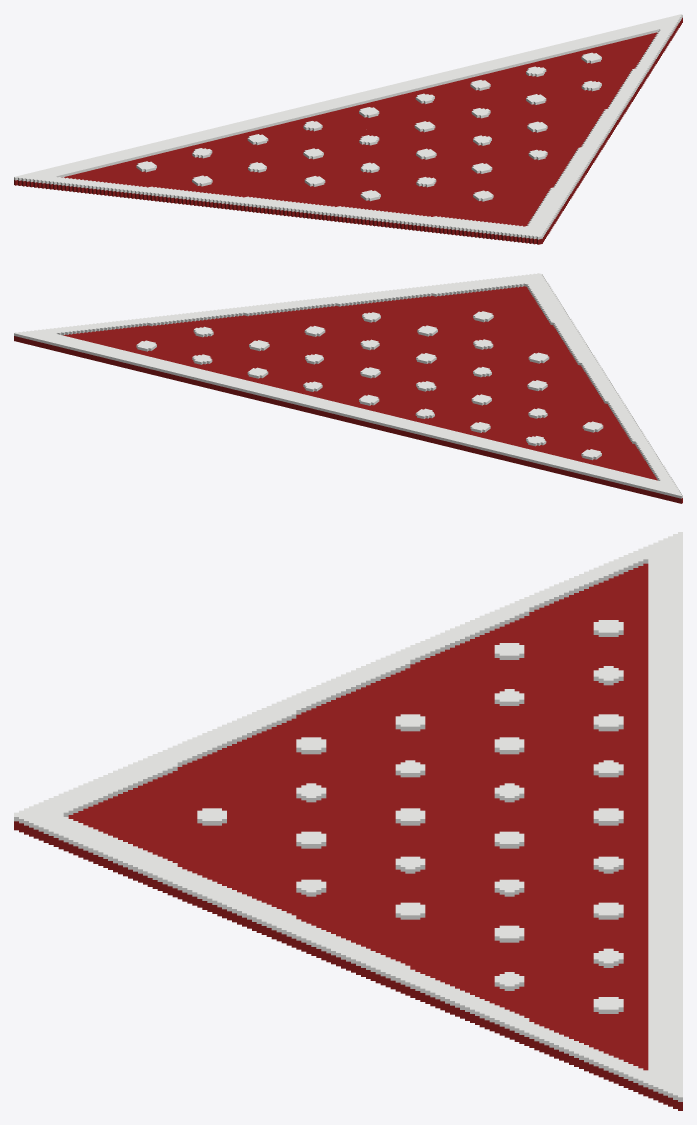
Rendered from bandana_head.glb.
3 views of the same model, one above another, from view 1: azimuth 30°, elevation 25°; view 2: azimuth 150°, elevation 25°; view 3: azimuth 270°, elevation 25° (orthographic). The views are drawn at different scales.
Parts seen in each view (by area): view 1: bandana_head:compound; view 2: bandana_head:compound; view 3: bandana_head:compound.
Part boxes in pixels (<box>): bandana_head:compound: <box>14,14,682,244</box>; bandana_head:compound: <box>14,273,682,503</box>; bandana_head:compound: <box>14,532,682,1110</box>.
Size of the model in its own units: 0.54 by 0.006 by 0.27.
